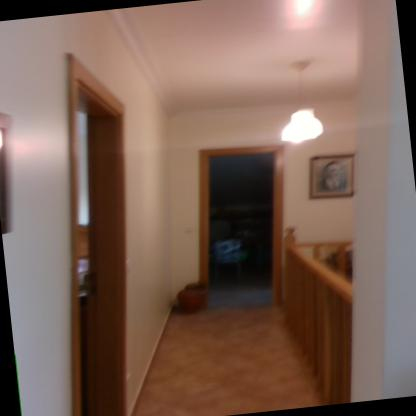open: (53, 51, 164, 415), (185, 126, 308, 332)
